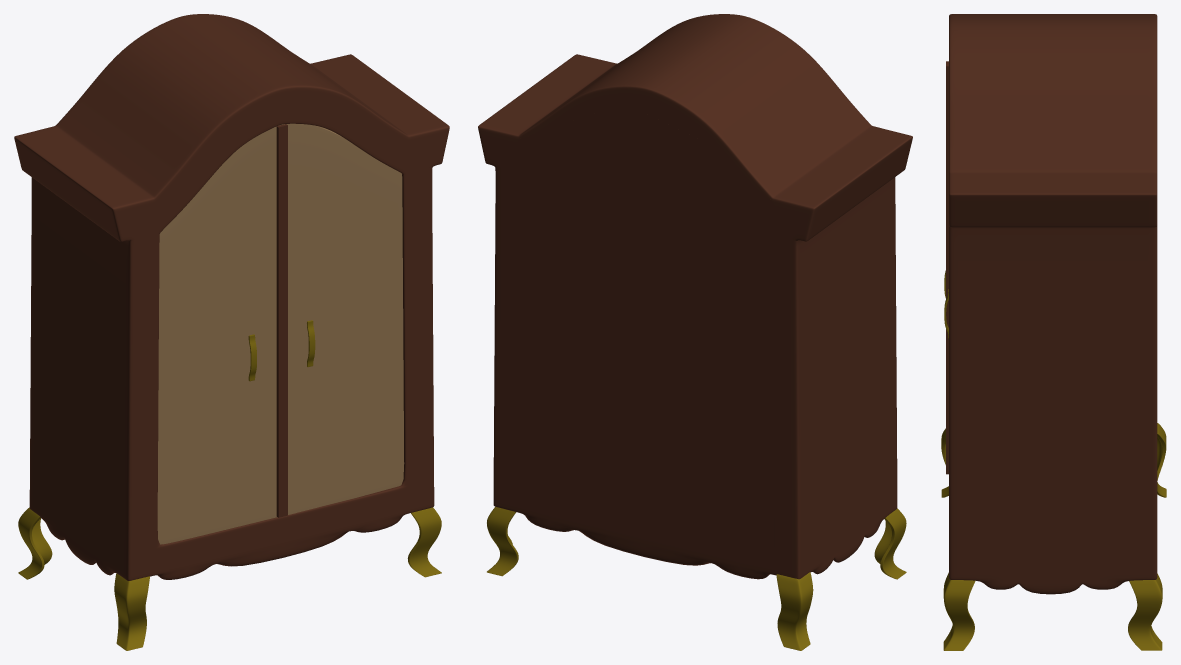
The model's file is Wardrobe.fbx.
The picture shows the model from 3 angles, left to right: view 1: azimuth 30°, elevation 25°; view 2: azimuth 150°, elevation 25°; view 3: azimuth 270°, elevation 25°; orthographic projection. The views are drawn at different scales.
Parts seen in each view (by area): view 1: Wood, Gold; view 2: Wood, Gold; view 3: Wood, Gold.
Boxes of the visible parts, left/top/right/bottom form: Wood: left=14, top=14, right=449, bottom=580; Gold: left=18, top=320, right=441, bottom=650; Wood: left=478, top=14, right=912, bottom=579; Gold: left=487, top=507, right=906, bottom=650; Wood: left=946, top=14, right=1157, bottom=594; Gold: left=941, top=270, right=1166, bottom=650.
Size of the model in its own units: 9.41 by 13.88 by 5.2.
